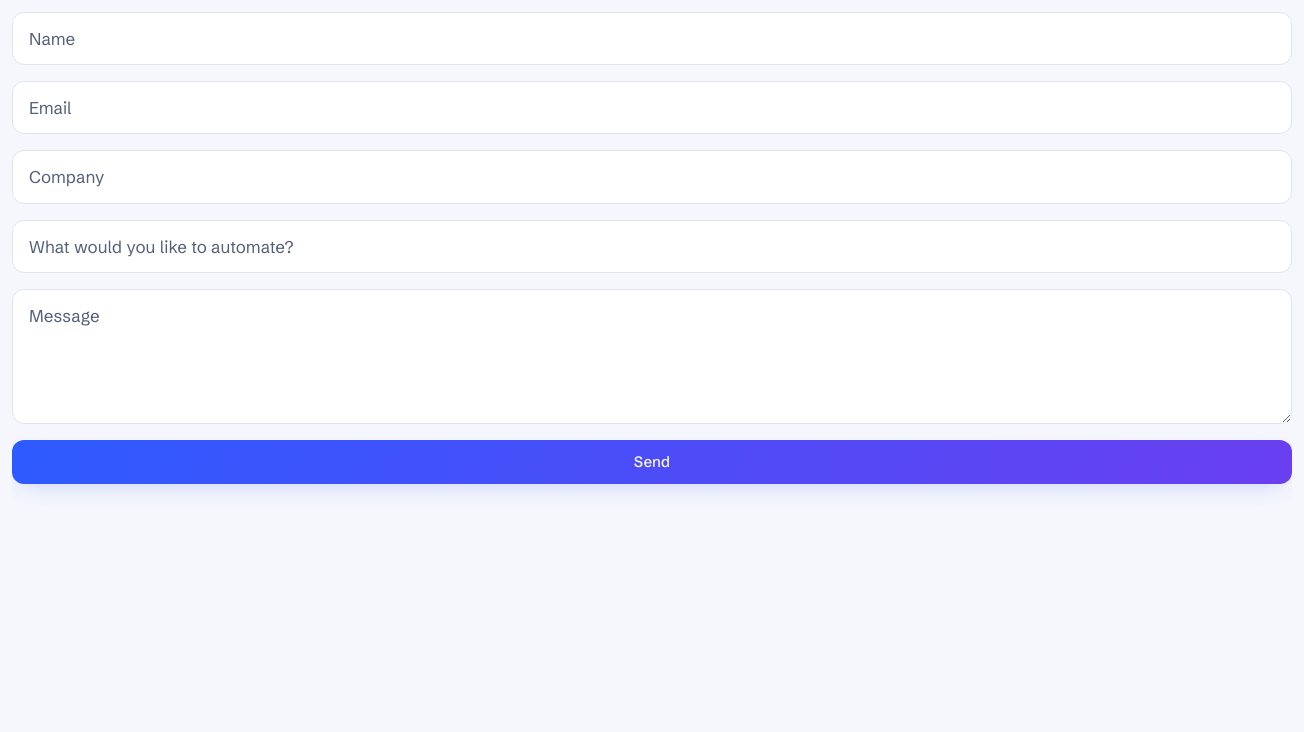
Test: ContactForm › shows a success message after a successful submit
Type "Jane" into the field with placeholder "Name" at (652, 39), box [12,12,1292,65]
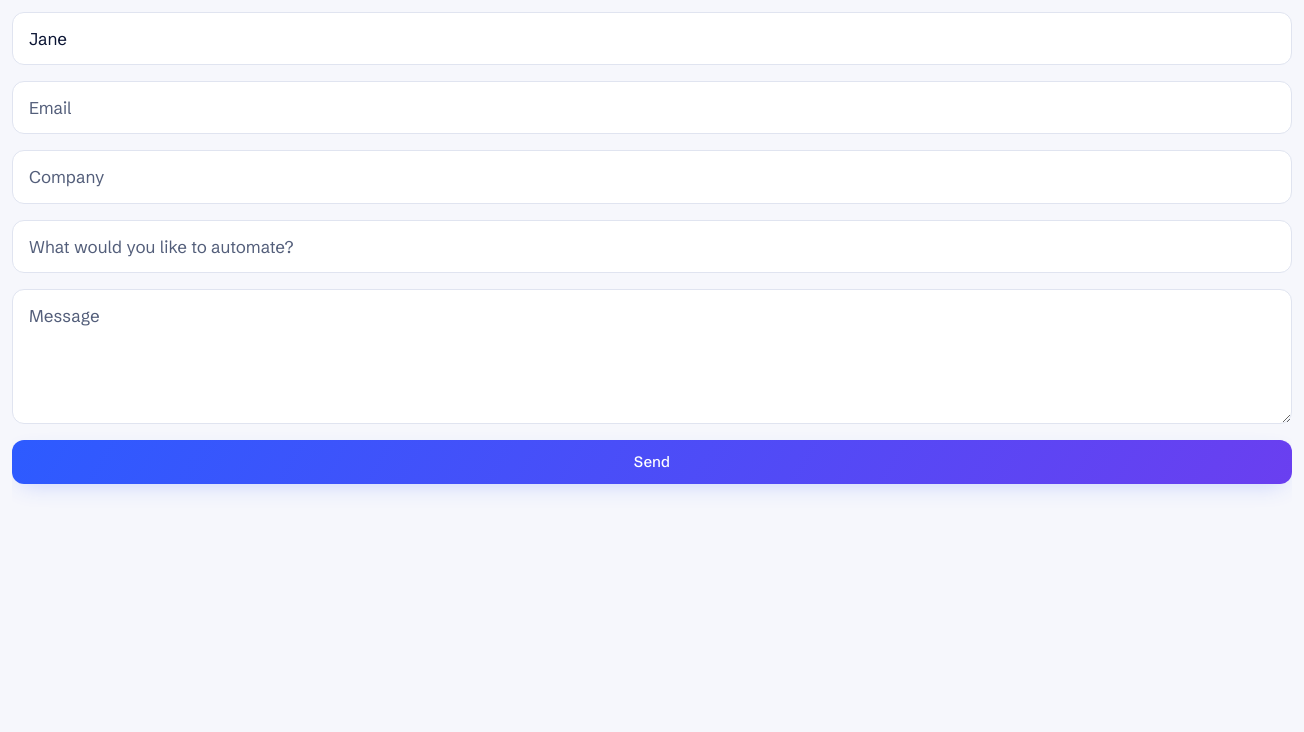
Type "jane@example.com" into the field with placeholder "Email" at (652, 108), box [12,81,1292,134]
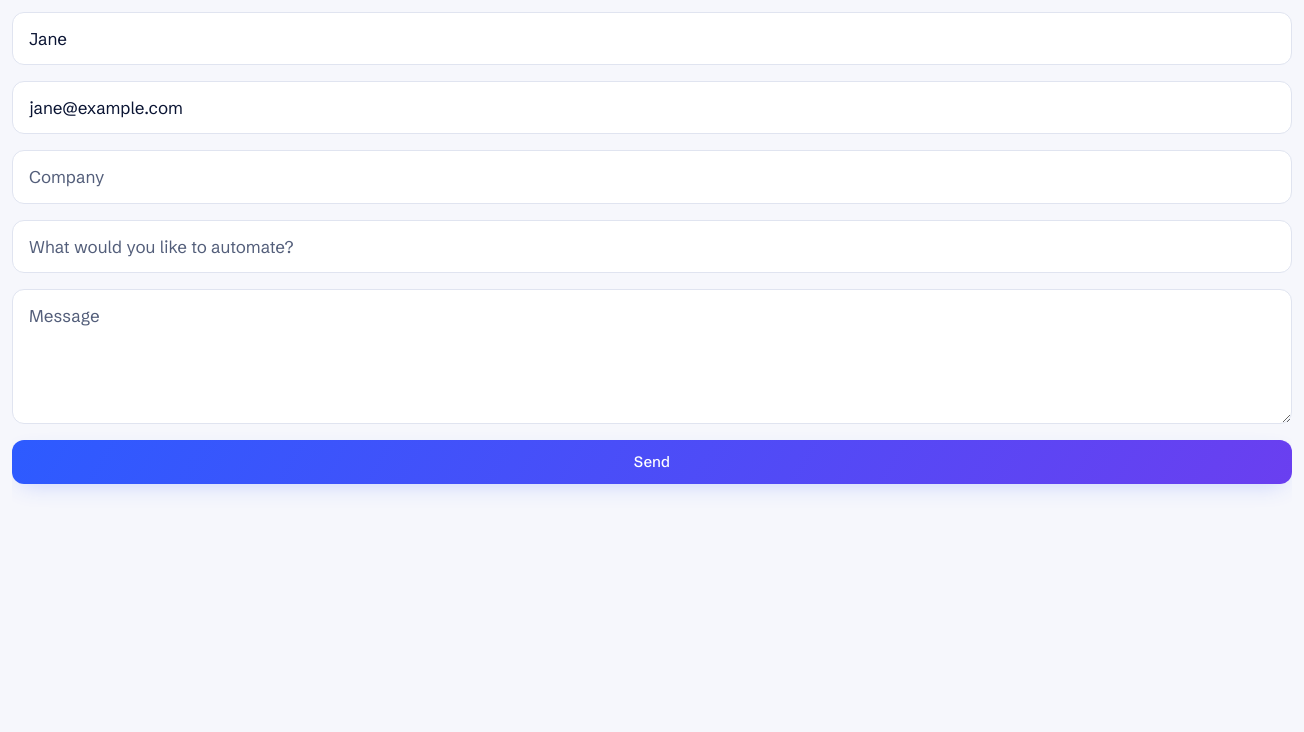
Click the button "Send" at (652, 462), box [12,440,1292,484]
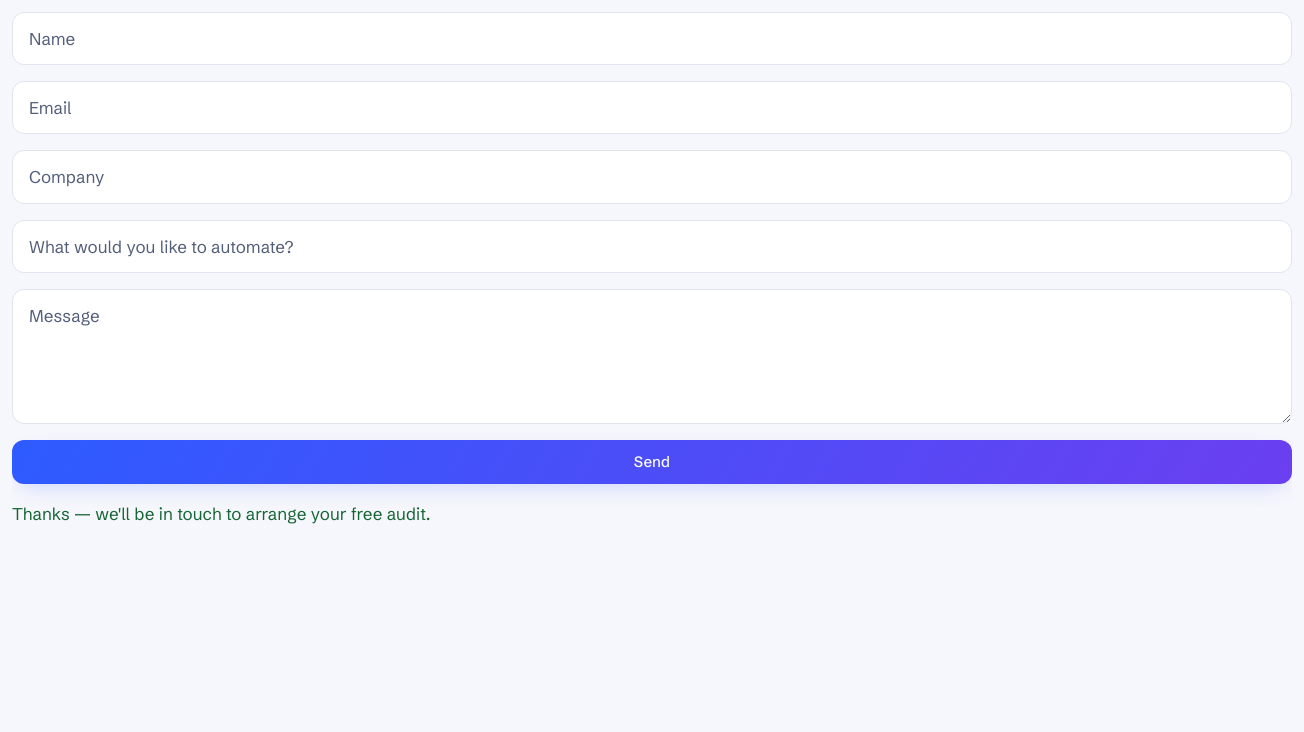
Check: the text "Thanks — we'll be in touch to arrange your free audit." is shown, box [12,502,430,524]
